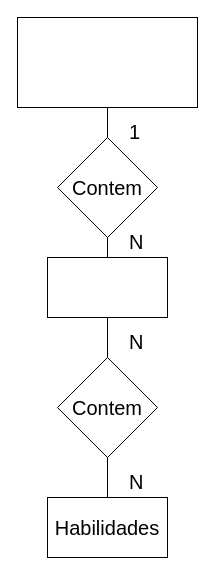
This 215x575 diagram has some shape labels left out. The shapes that lost their labels are listed below. From the top down, each one's box as (x1, y1, x2, y2) in pixels, then its label:
(16, 16, 198, 108): DEPARTAMENTO
(46, 256, 168, 318): Funcionario
